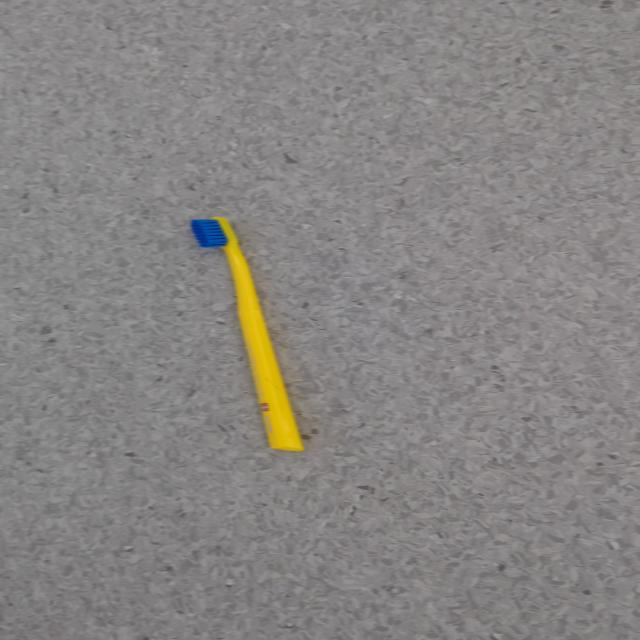toothbrush: (189, 216, 305, 452)
